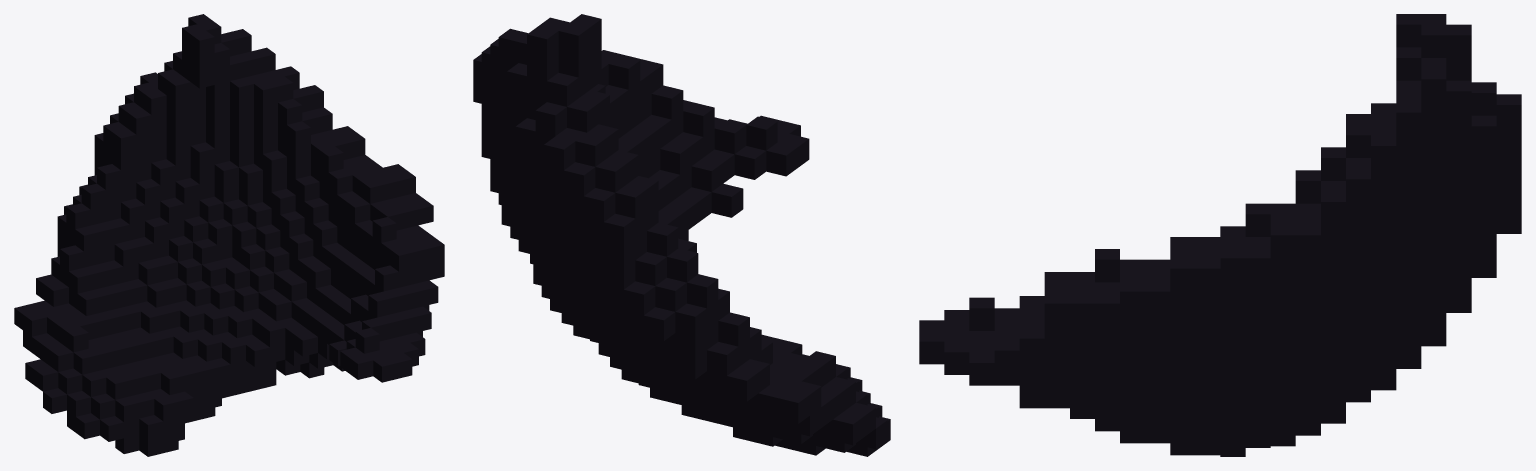
File: BombDefaultShards-2.obj
The picture shows the model from 3 angles, left to right: view 1: azimuth 30°, elevation 25°; view 2: azimuth 150°, elevation 25°; view 3: azimuth 270°, elevation 25°; orthographic projection. The views are drawn at different scales.
Size of the model in its own units: 2.1 by 2.1 by 2.4.
1 material, 1 textured.
